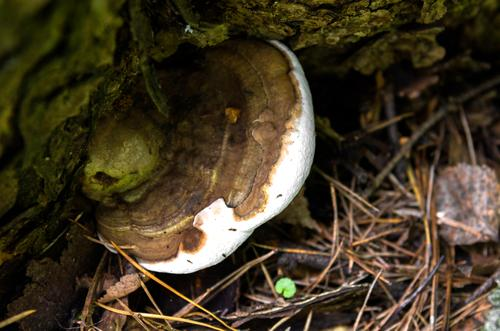Ganoderma - Fruit Body: (74, 37, 317, 278)
